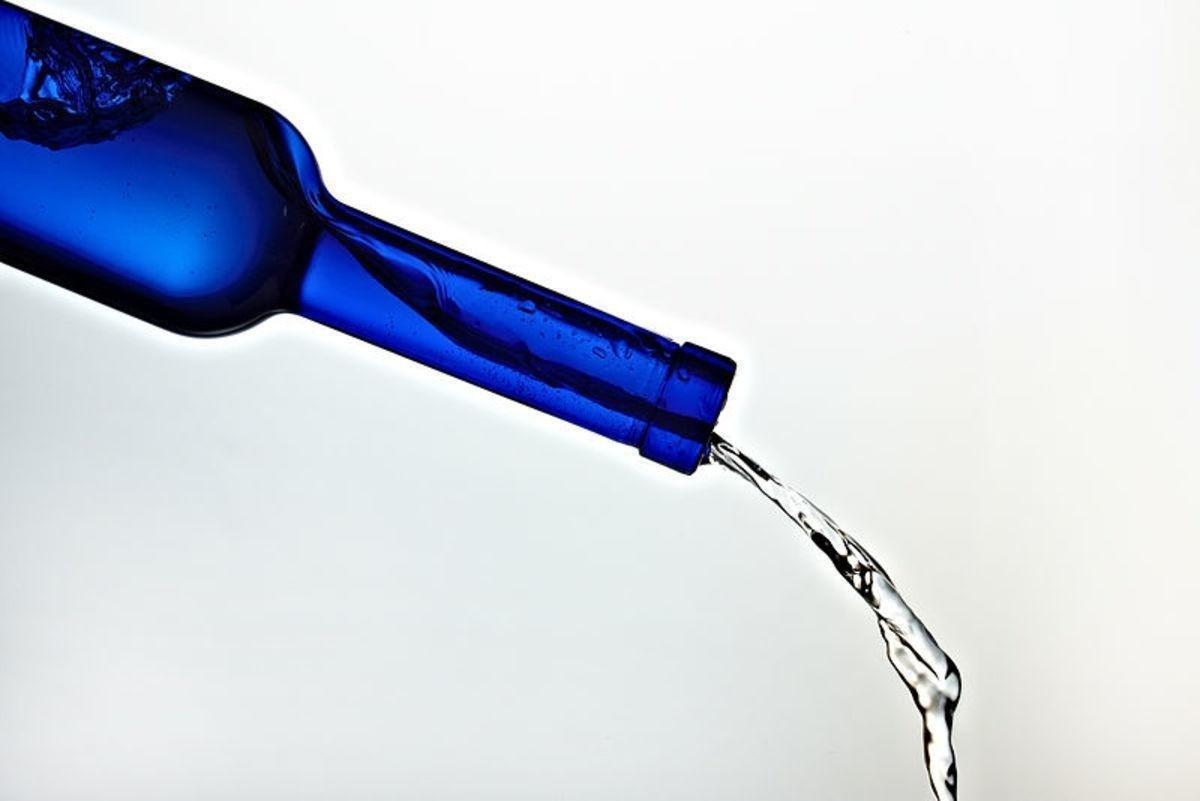bottle-glass: (1, 1, 738, 478)
